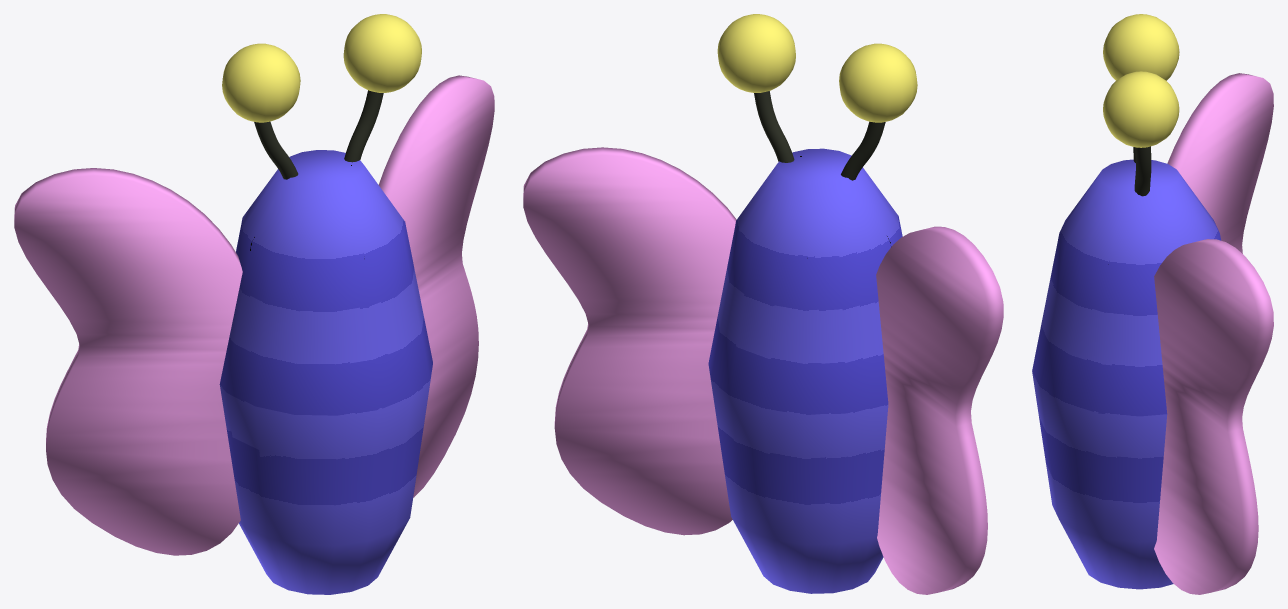
The model's file is btfly.glb.
3 views of the same model, side by side, from view 1: azimuth 30°, elevation 25°; view 2: azimuth 150°, elevation 25°; view 3: azimuth 270°, elevation 25° (orthographic). The views are drawn at different scales.
Visible parts, largest first — view 1: btfly, wing1, wing2, ball1, ball2, tenta2, tenta1; view 2: btfly, wing2, wing1, ball1, ball2, tenta2, tenta1; view 3: btfly, wing2, wing1, ball2, ball1, tenta2.
Part boxes in pixels (x1,y1,x2,y2): btfly: (219, 150, 432, 594); wing1: (14, 168, 242, 555); wing2: (378, 75, 494, 497); ball1: (222, 43, 300, 122); ball2: (343, 14, 421, 92); tenta2: (344, 90, 383, 162); tenta1: (254, 121, 298, 179); btfly: (708, 148, 902, 593); wing2: (523, 147, 736, 535); wing1: (876, 226, 1003, 594); ball1: (839, 43, 917, 122); ball2: (717, 14, 795, 92); tenta2: (754, 91, 794, 162); tenta1: (841, 121, 885, 180); btfly: (1032, 159, 1221, 589); wing2: (1154, 239, 1273, 594); wing1: (1167, 73, 1273, 253); ball2: (1103, 71, 1179, 147); ball1: (1103, 14, 1179, 80); tenta2: (1134, 146, 1151, 196).
Size of the model in its own units: 0.3841 by 0.411 by 0.1732.
Materials: 1 (1 with a texture image).
